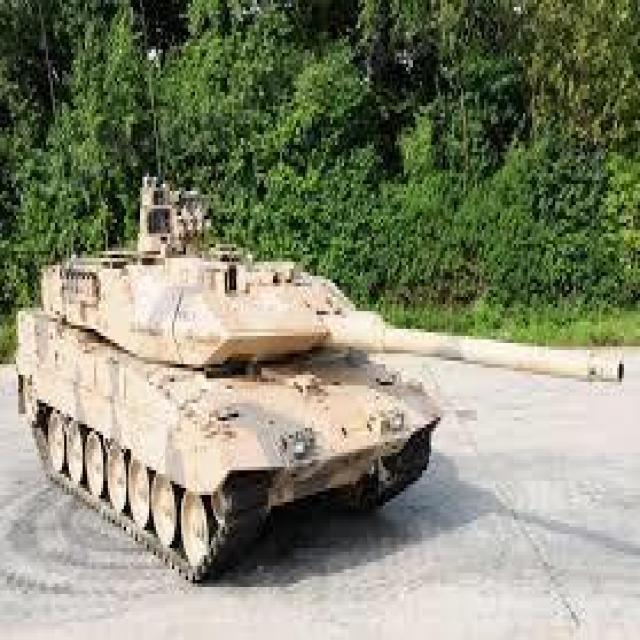Tanks: (23, 116, 587, 558)
